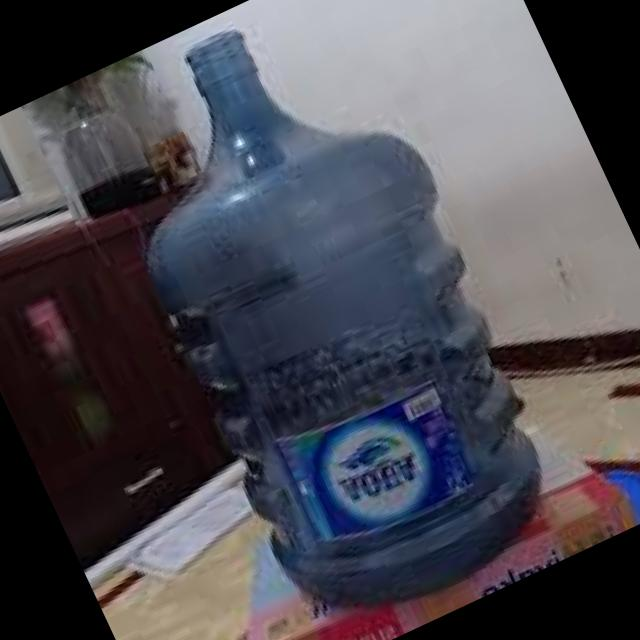Galon: (59, 0, 594, 640)
